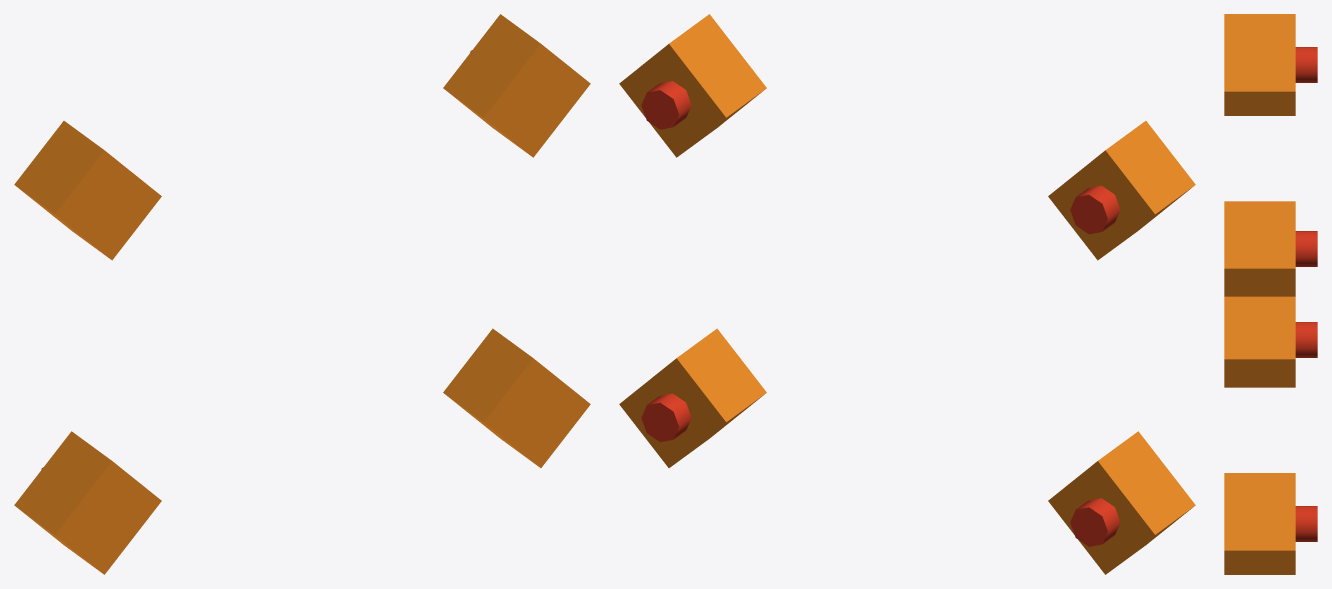
File: refuge100_release.obj
3 renders of one model, left to right at view 1: azimuth 30°, elevation 25°; view 2: azimuth 150°, elevation 25°; view 3: azimuth 270°, elevation 25°, orthographic. The views are drawn at different scales.
Parts seen in each view (by area): view 1: refuge100_release; view 2: refuge100_release; view 3: refuge100_release.
Boxes of the visible parts, bbox=[...] form: refuge100_release: bbox=[14, 14, 590, 574]; refuge100_release: bbox=[619, 14, 1195, 574]; refuge100_release: bbox=[1224, 14, 1317, 574].
Size of the model in its own units: 1.98 by 1.5 by 0.34.
